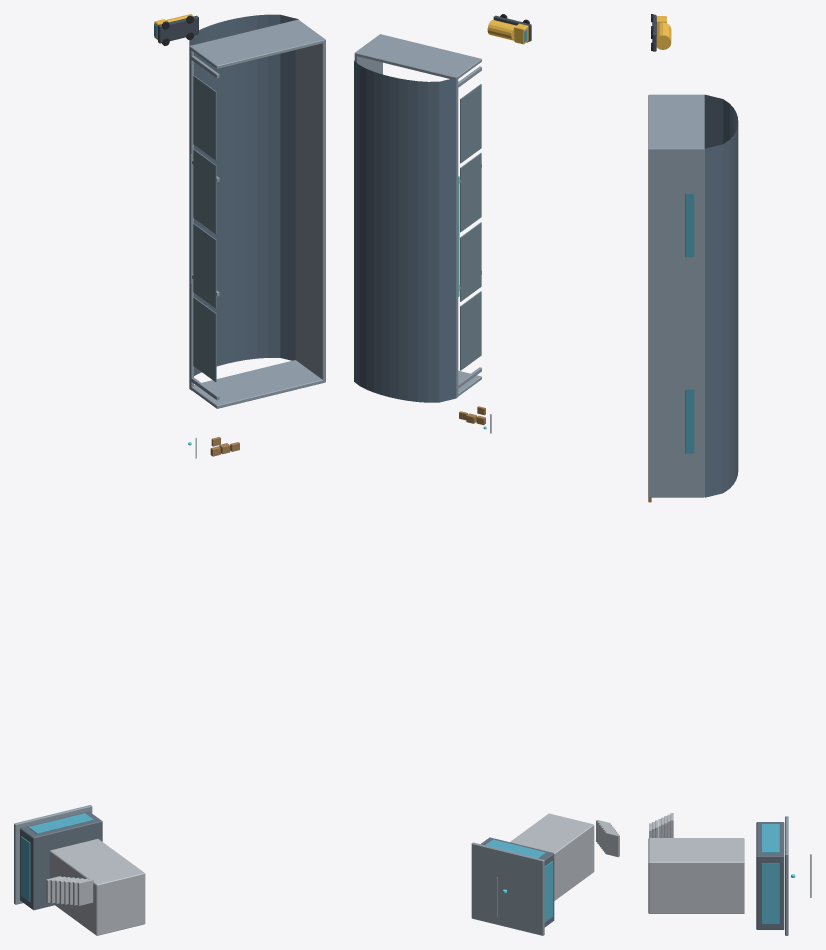
Rendered from fable-airfield-props.glb.
3 views of the same model, side by side, from view 1: azimuth 30°, elevation 25°; view 2: azimuth 150°, elevation 25°; view 3: azimuth 270°, elevation 25° (orthographic). The views are drawn at different scales.
Parts seen in each view (by area): view 1: Hangar barrel roof, Hangar back, Tower shaft, Hangar side north, Hangar side south, Tower cabin, Hangar rolling door.003, Hangar rolling door, Hangar rolling door.001, Hangar rolling door.002, Hangar lintel, Tower roof (+1 smaller); view 2: Hangar barrel roof, Tower roof, Tower shaft, Hangar side north, Hangar rolling door.001, Hangar rolling door.002, Hangar rolling door, Hangar rolling door.003, Hangar lintel; view 3: Hangar back, Hangar barrel roof, Tower shaft, Hangar side north, Tower cabin, Tower east glazing, Hangar side window, Hangar side window.001, Tower south glazing, Tower roof, Refueler tank.
Part boxes in pixels (left/top/right/bottom): Hangar barrel roof: left=189, top=14, right=298, bottom=375; Hangar back: left=295, top=19, right=325, bottom=382; Tower shaft: left=49, top=839, right=145, bottom=935; Hangar side north: left=190, top=20, right=325, bottom=69; Hangar side south: left=191, top=360, right=325, bottom=408; Tower cabin: left=20, top=811, right=102, bottom=910; Hangar rolling door.003: left=193, top=75, right=216, bottom=160; Hangar rolling door: left=193, top=297, right=216, bottom=381; Hangar rolling door.001: left=193, top=223, right=216, bottom=308; Hangar rolling door.002: left=193, top=149, right=216, bottom=233; Hangar lintel: left=189, top=45, right=193, bottom=390; Tower roof: left=14, top=805, right=92, bottom=904; Hangar barrel roof: left=354, top=60, right=456, bottom=402; Tower roof: left=471, top=842, right=544, bottom=935; Tower shaft: left=510, top=813, right=594, bottom=900; Hangar side north: left=355, top=34, right=481, bottom=78; Hangar rolling door.001: left=460, top=222, right=481, bottom=301; Hangar rolling door.002: left=460, top=153, right=481, bottom=232; Hangar rolling door: left=460, top=291, right=481, bottom=370; Hangar rolling door.003: left=460, top=84, right=481, bottom=163; Hangar lintel: left=454, top=75, right=458, bottom=397; Hangar back: left=648, top=147, right=704, bottom=497; Hangar barrel roof: left=704, top=94, right=738, bottom=497; Tower shaft: left=648, top=838, right=744, bottom=913; Hangar side north: left=648, top=94, right=704, bottom=151; Tower cabin: left=756, top=822, right=784, bottom=929; Tower east glazing: left=762, top=863, right=779, bottom=923; Hangar side window: left=685, top=389, right=694, bottom=453; Hangar side window.001: left=685, top=193, right=694, bottom=257; Tower south glazing: left=762, top=824, right=779, bottom=852; Tower roof: left=785, top=816, right=788, bottom=935; Refueler tank: left=656, top=22, right=671, bottom=49.
Bounding box in the file's own units: 39.23 × 127 × 20.33.
